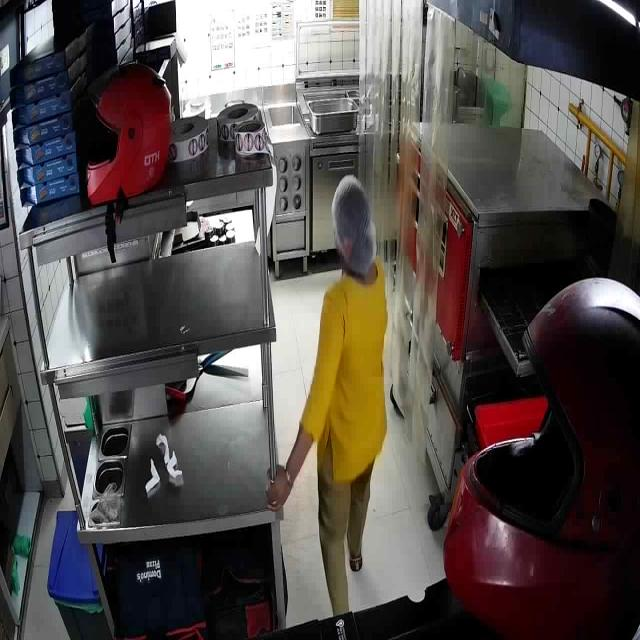helmet: (442, 278, 640, 639)
no_helmet: (330, 173, 378, 274)
